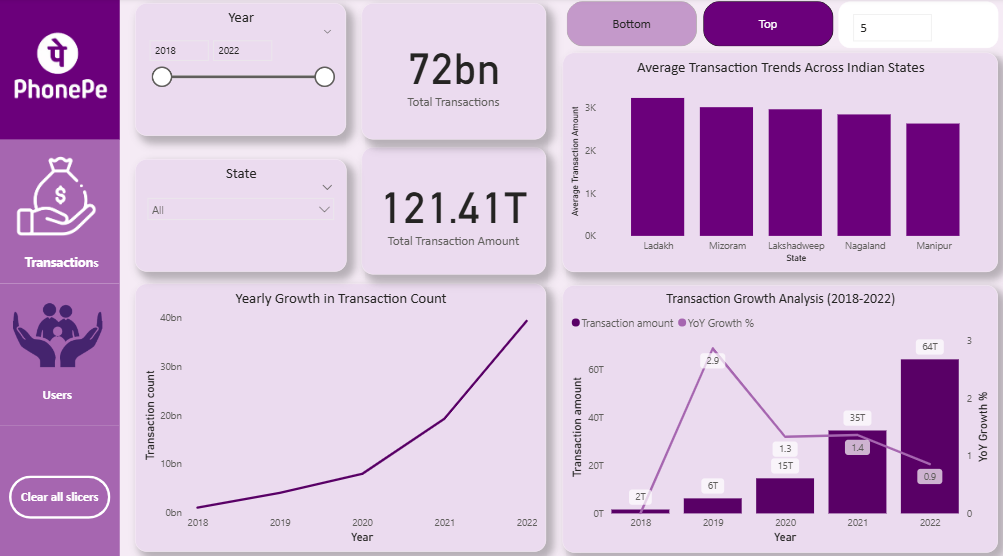

The dashboard page shown, as its layout file describes it:
{"tool":"powerbi","page":{"name":"Transaction","canvas":[1280,720],"ordinal":0},"visuals":[{"type":"shape","box":[0,0,155,180],"z":0,"group":"g1"},{"type":"lineChart","title":"Yearly Growth in Transaction Count","fields":{"Category":["map_trans.Year"],"Y":["Sum(map_trans.Transaction_count)"]},"box":[173.9,360.9,517.8,338.3],"z":0},{"type":"shape","box":[0,179.5,155,181.4],"z":1000,"group":"g1"},{"type":"card","fields":{"Values":["Sum(map_trans.Transaction_amount)"]},"box":[459.2,189,232.4,160.6],"z":1000},{"type":"slicer","title":"Year","fields":{"Values":["map_trans.Year"]},"box":[173.8,8.4,265.9,167.5],"z":2000},{"type":"shape","box":[0,360.9,155,179.5],"z":2000,"group":"g1"},{"type":"slicer","title":"State","fields":{"Values":["map_trans.State"]},"box":[173.9,204.1,266.5,141.7],"z":3000},{"type":"card","fields":{"Values":["Sum(map_trans.Transaction_count)"]},"box":[458.5,8.4,232.4,171.7],"z":4000},{"type":"group","id":"g1","title":"Group 1","box":[0,0,155,720],"z":5000},{"type":"image","box":[11.3,24.6,136.1,130.4],"z":6000},{"type":"lineClusteredColumnComboChart","title":"Transaction Growth Analysis (2018-2022)","fields":{"Category":["map_trans.Year"],"Y":["Sum(map_trans.Transaction_amount)"],"Y2":["map_trans.YoY Growth %"]},"box":[711.9,362.2,548.6,337.1],"z":7000},{"type":"textbox","box":[15.1,317.5,132.3,32.1],"z":8000},{"type":"shape","box":[0,540.5,155,179.5],"z":8001,"group":"g1"},{"type":"actionButton","box":[14.7,603,127.7,54.4],"z":9000},{"type":"advancedSlicerVisual","fields":{"Values":["Top/Bottom.Value"]},"box":[711.9,0,347.6,67],"z":10000},{"type":"image","box":[15.1,189,122.8,120.9],"z":10002,"group":"g1"},{"type":"clusteredColumnChart","title":"Average Transaction Trends Across Indian States","fields":{"Category":["map_trans.State"],"Y":["map_trans.Average Transaction Amount"]},"box":[711.9,69.1,548.6,276.4],"z":11000},{"type":"slicer","fields":{"Values":["Parameter.Parameter"]},"box":[1059.5,6.3,201,58.6],"z":12000},{"type":"image","box":[12.6,362.2,125.6,125.6],"z":12001,"group":"g1"},{"type":"textbox","box":[14.7,485.8,121.4,44],"z":13000}]}

Visuals, with their boxes in screenshot pixels (x1, y1, x2, y2), scaled from the page's 1280x720 canvas onto the 1003x556 screenshot:
shape: bbox=[0, 0, 121, 139]
"Yearly Growth in Transaction Count" lineChart: bbox=[136, 279, 542, 540]
shape: bbox=[0, 139, 121, 279]
card - Sum(map_trans.Transaction_amount): bbox=[360, 146, 542, 270]
"Year" slicer: bbox=[136, 6, 345, 136]
shape: bbox=[0, 279, 121, 417]
"State" slicer: bbox=[136, 158, 345, 267]
card - Sum(map_trans.Transaction_count): bbox=[359, 6, 541, 139]
"Group 1" group: bbox=[0, 0, 121, 555]
image: bbox=[9, 19, 116, 120]
"Transaction Growth Analysis (2018-2022)" lineClusteredColumnComboChart: bbox=[558, 280, 988, 540]
textbox: bbox=[12, 245, 116, 270]
shape: bbox=[0, 417, 121, 555]
actionButton: bbox=[12, 466, 112, 508]
advancedSlicerVisual - Top/Bottom.Value: bbox=[558, 0, 830, 52]
image: bbox=[12, 146, 108, 239]
"Average Transaction Trends Across Indian States" clusteredColumnChart: bbox=[558, 53, 988, 267]
slicer - Parameter.Parameter: bbox=[830, 5, 988, 50]
image: bbox=[10, 280, 108, 377]
textbox: bbox=[12, 375, 107, 409]
